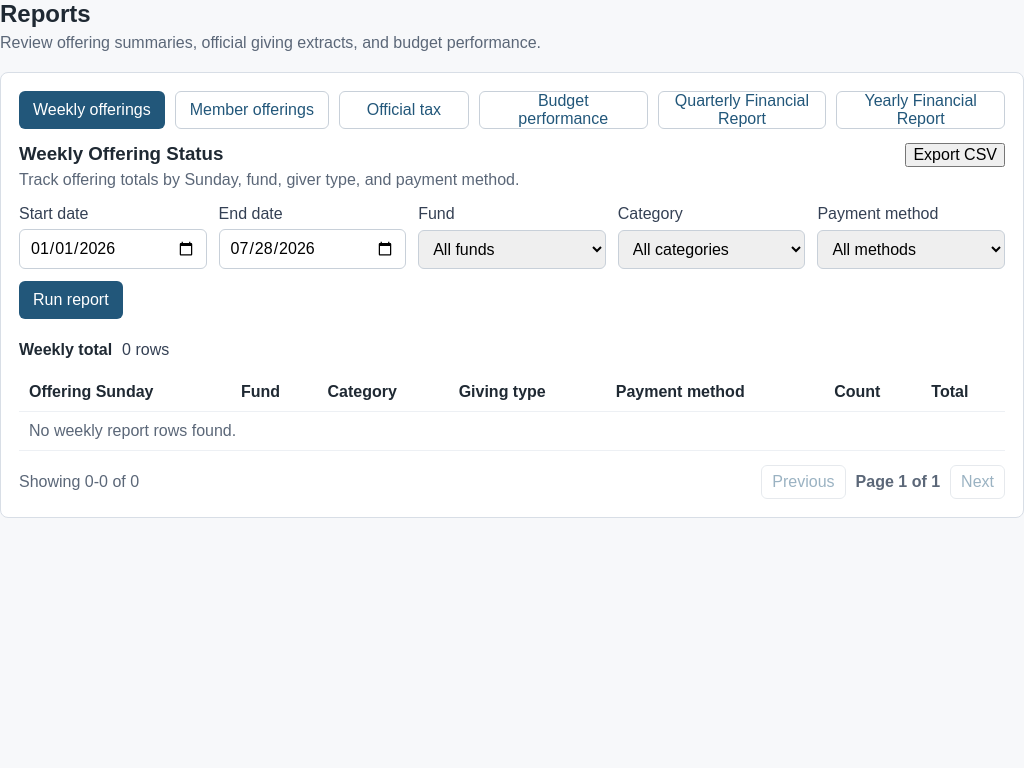
Test: ReportsView › moves focus into the dialog, traps it, and restores focus after Escape
Click the tab "Yearly Financial Report" at [921, 110], box [836,91,1005,129]
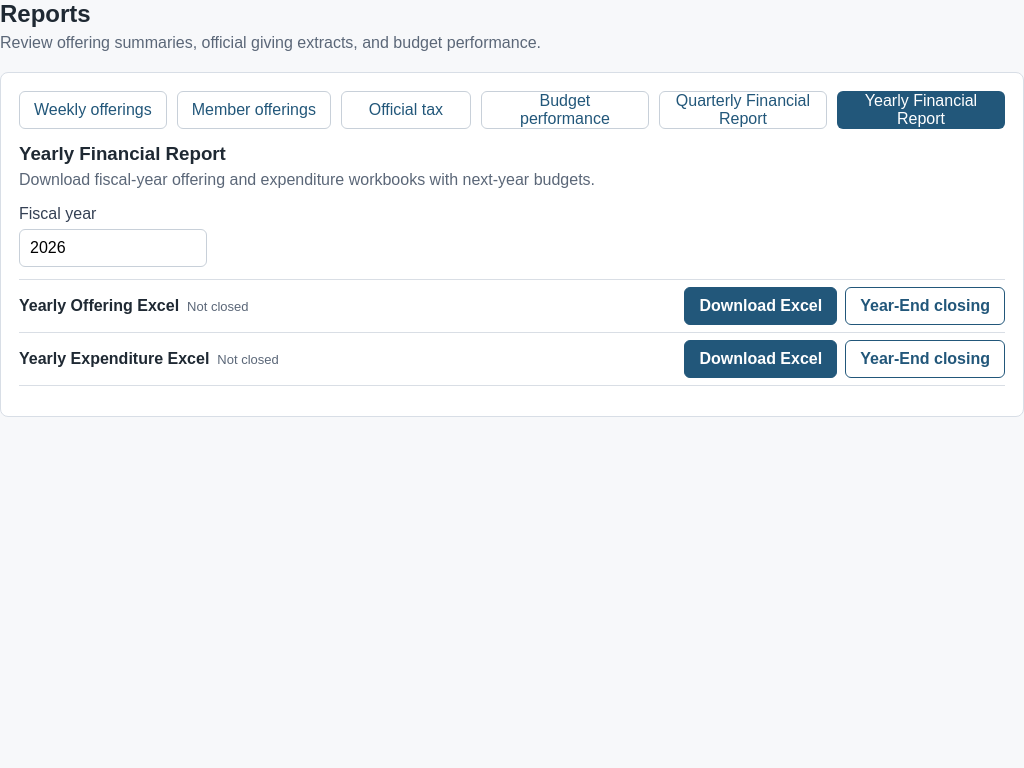
Replace the text in the number field labelled "Fiscal year" with "2025" at [113, 248], box [19,229,207,267]
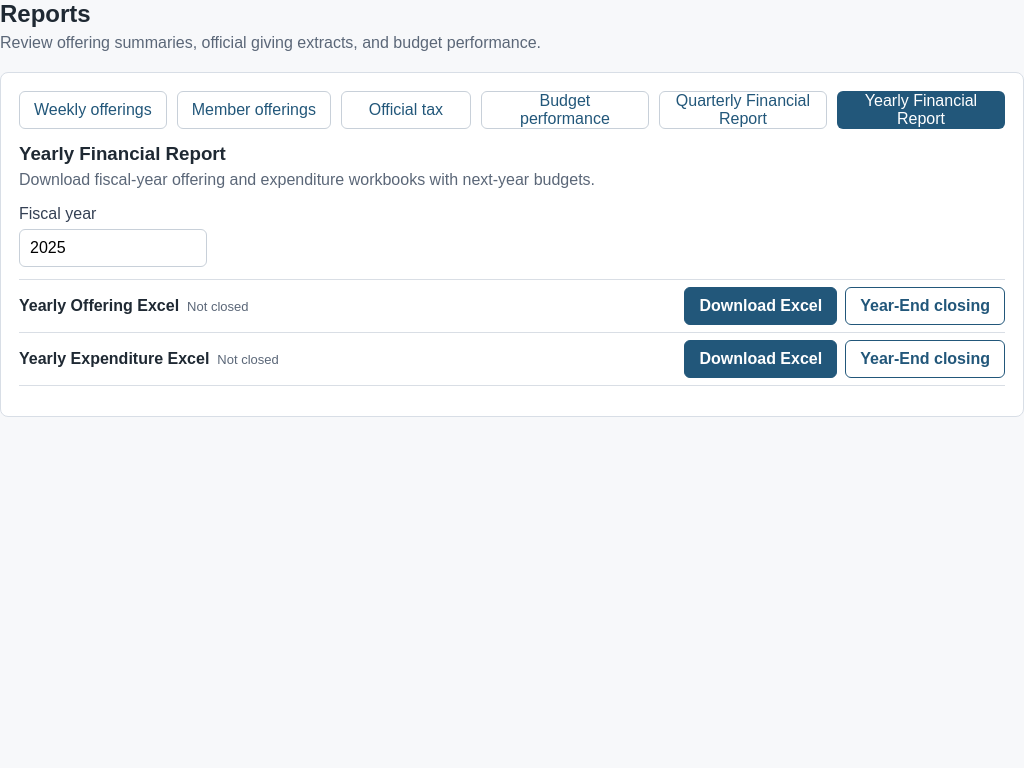
Click the button with aria-label "year-end close offering" at [925, 306], box [845,287,1005,325]
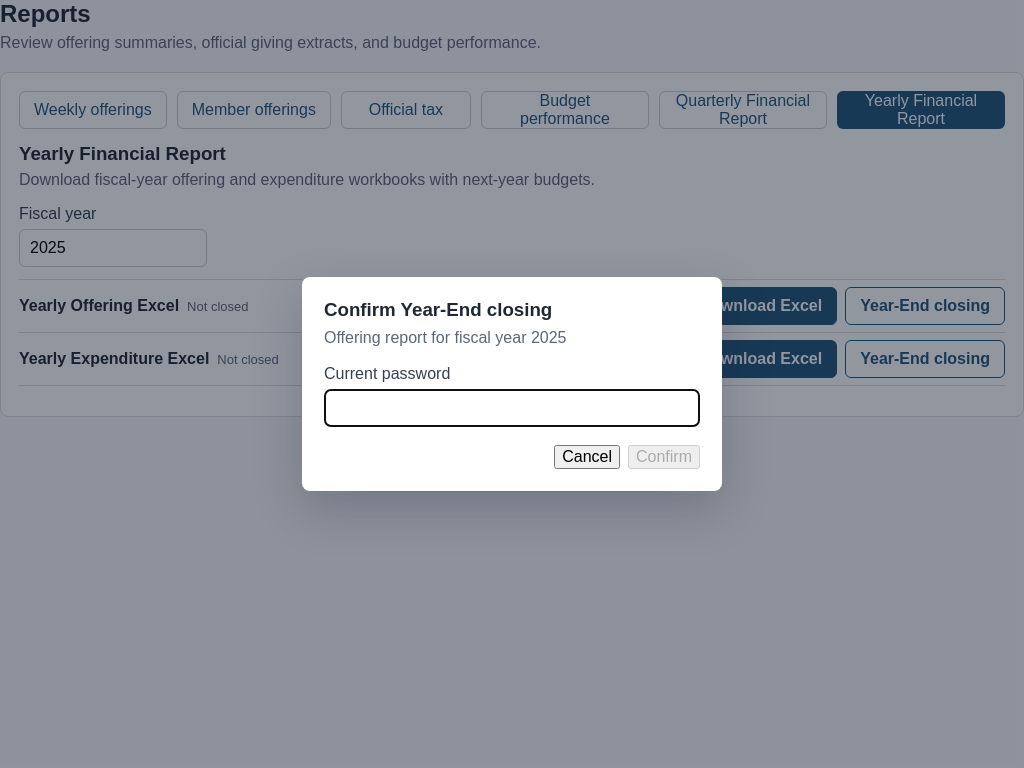
Type "secret" into the password field labelled "Current password" at [512, 408], box [324,389,700,427]
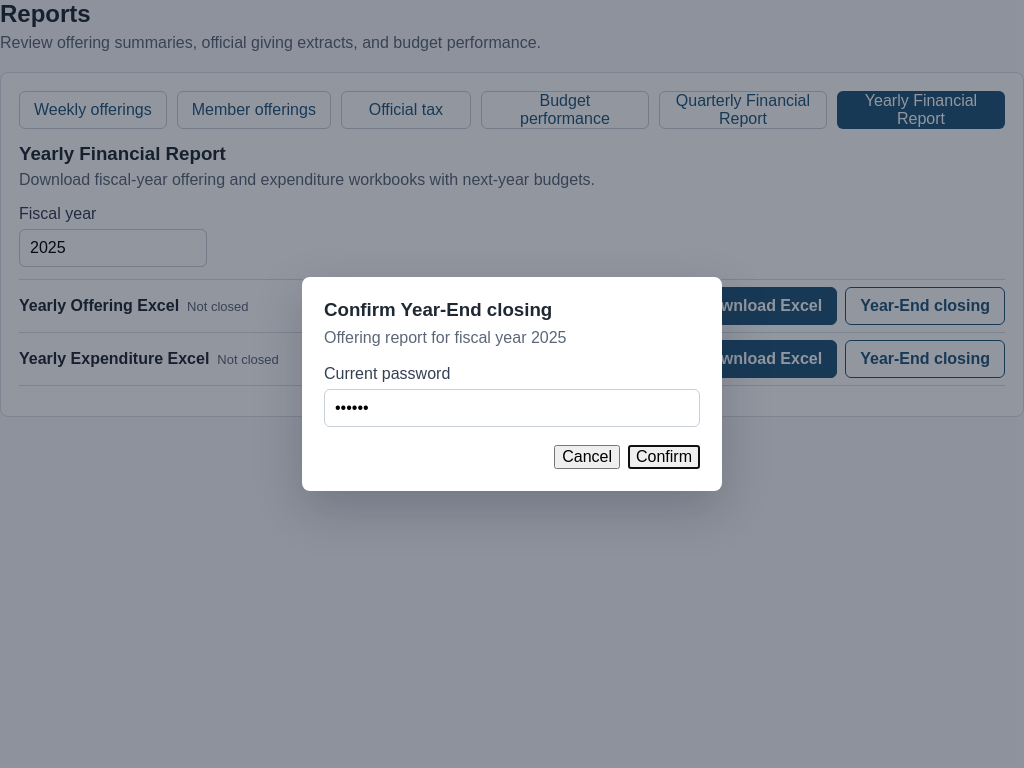
Press Tab in the dialog, box [302,277,722,491]
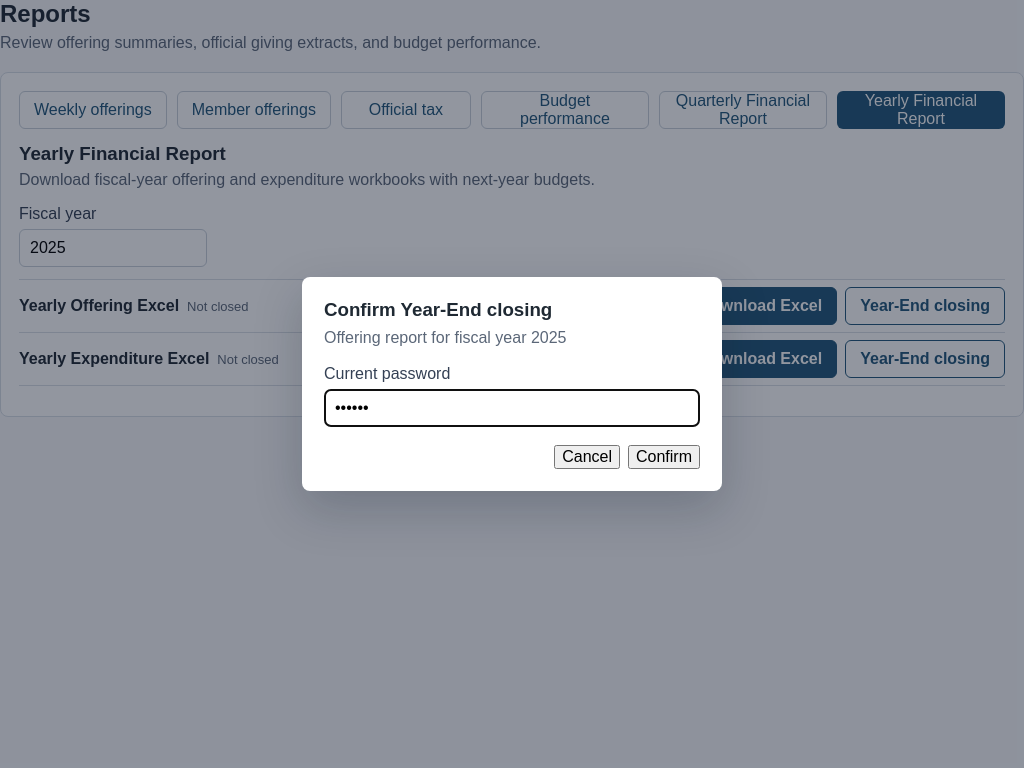
Press Escape in the dialog, box [302,277,722,491]
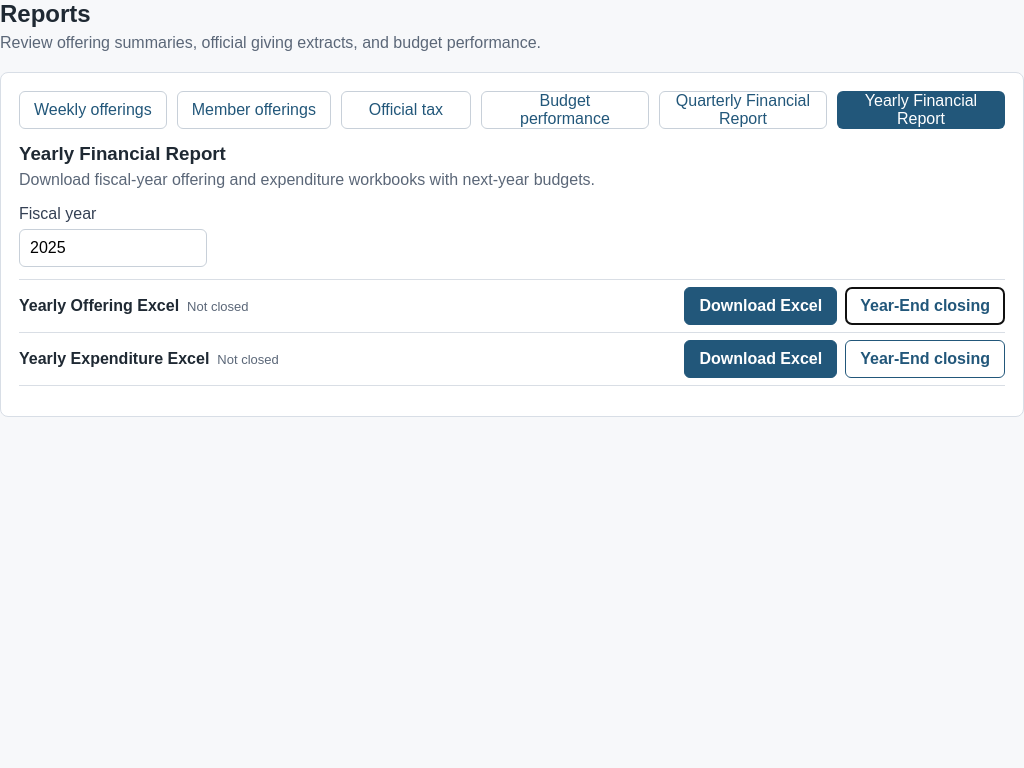
Check: the dialog is gone
